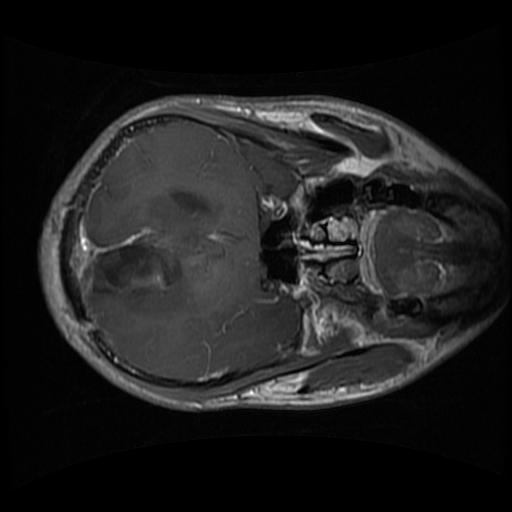glioma: (87, 232, 181, 300)
